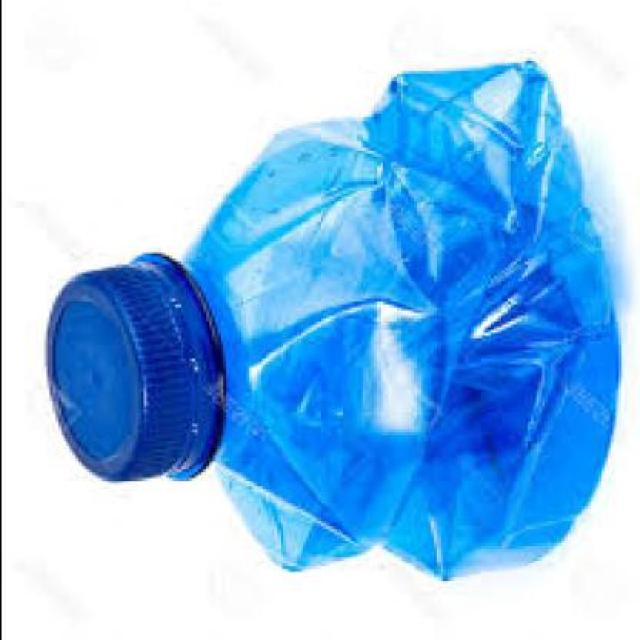PLASTIC: (39, 60, 618, 589), (43, 256, 219, 487)
